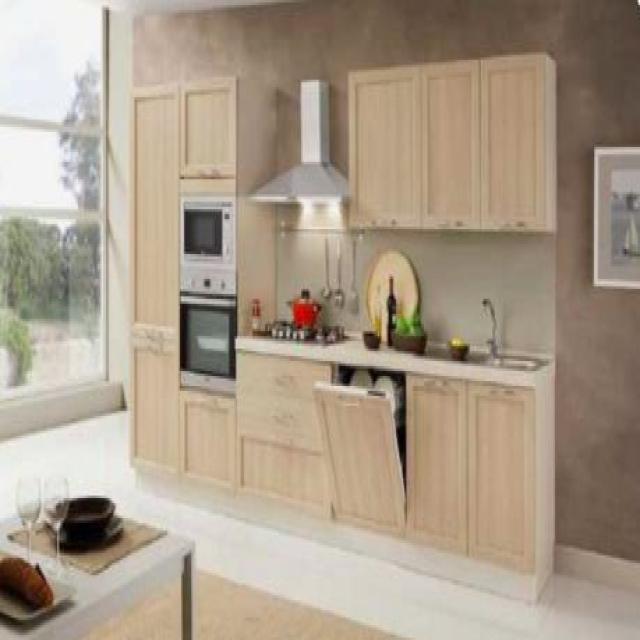dishwasher: (310, 361, 408, 533)
